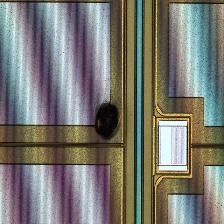PARTICLE: (90, 99, 126, 144)
